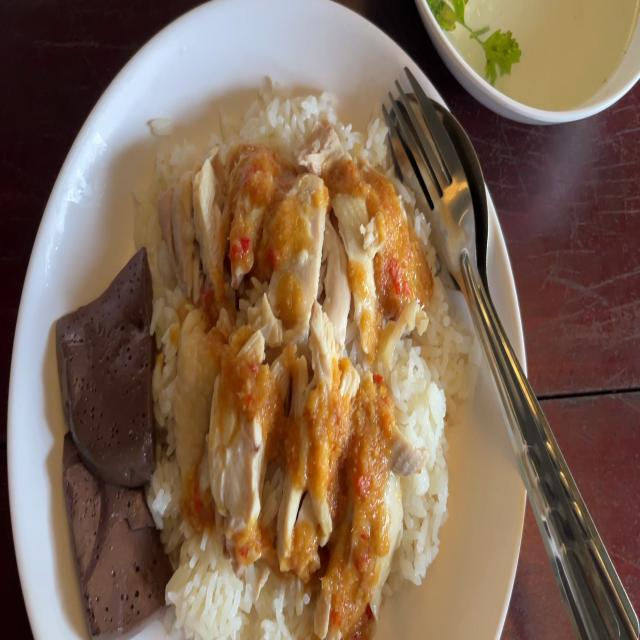chicken_rice: (149, 148, 412, 555)
noodle: (55, 253, 161, 487), (65, 424, 163, 612)
